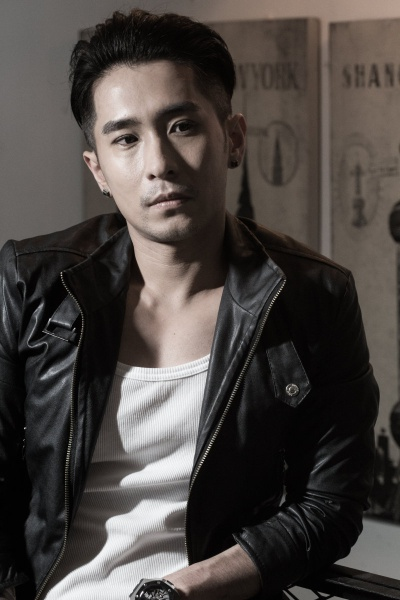male: (52, 14, 256, 248)
